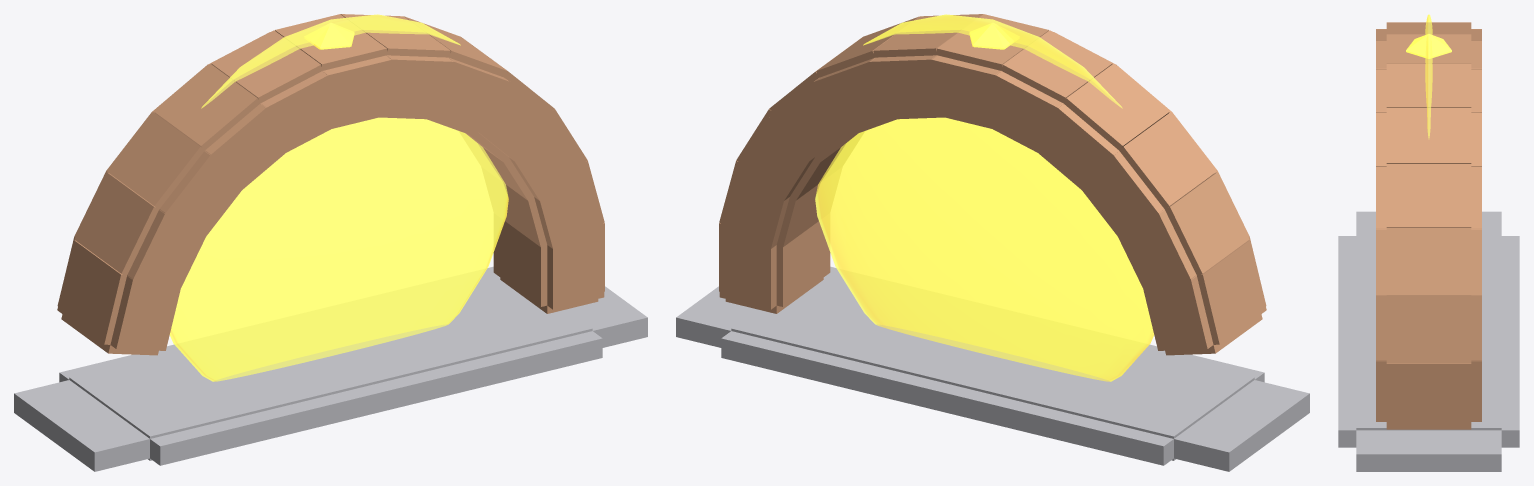
File: build_portal_volcano.glb
The picture shows the model from 3 angles, left to right: view 1: azimuth 30°, elevation 25°; view 2: azimuth 150°, elevation 25°; view 3: azimuth 270°, elevation 25°; orthographic projection. The views are drawn at different scales.
Parts seen in each view (by area): view 1: box; view 2: box; view 3: box.
Boxes of the visible parts, <box> form: box: <box>14,14,647,471</box>; box: <box>676,14,1309,471</box>; box: <box>1338,14,1519,471</box>.
Size of the model in its own units: 3.8 by 2.5 by 1.2.
